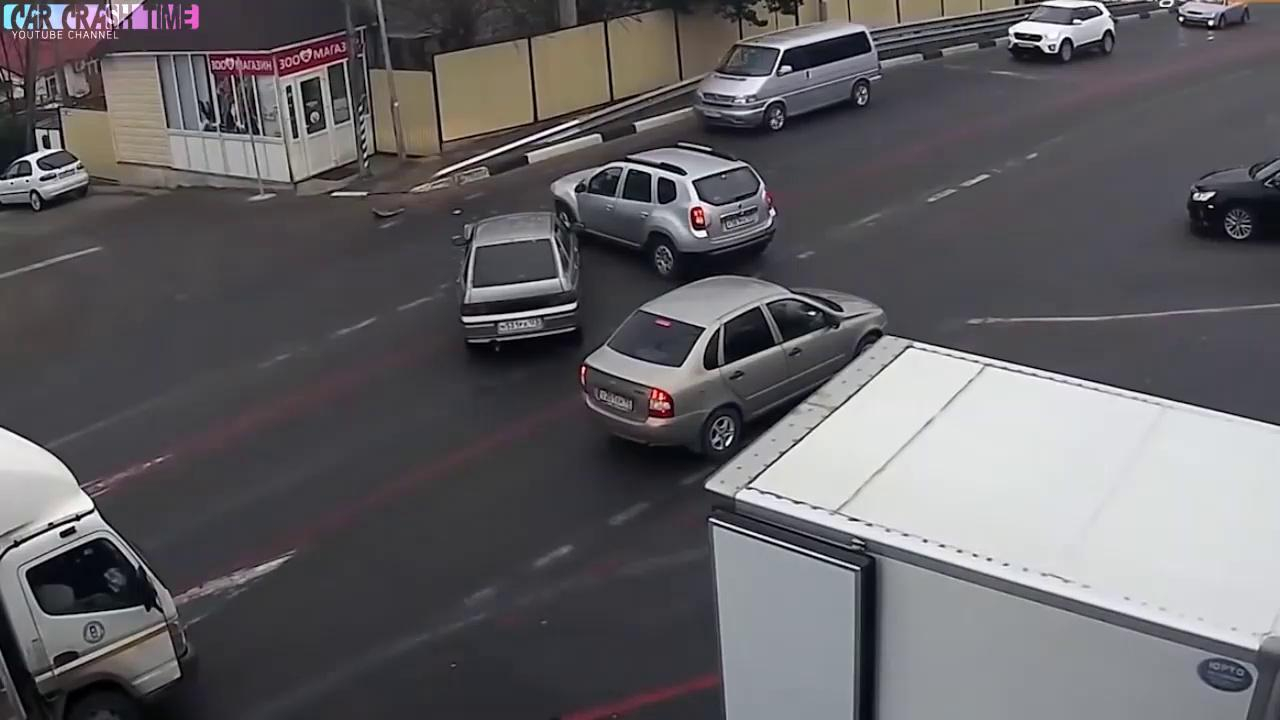car-accident: (459, 146, 758, 363)
